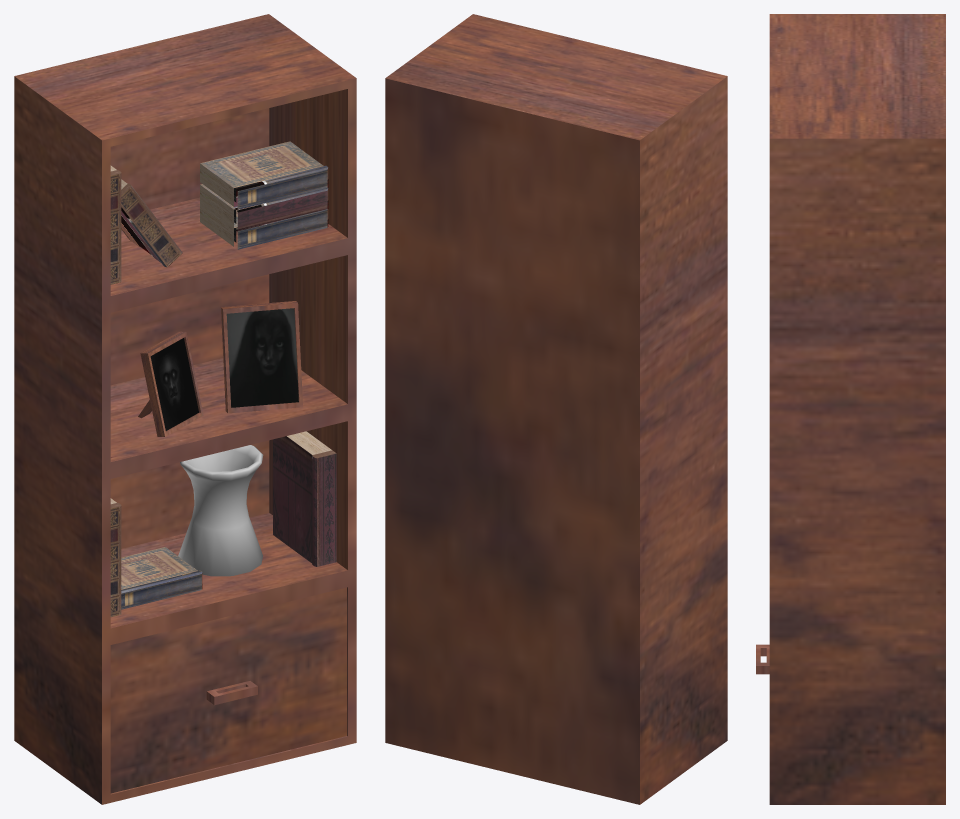
Rendered from TallFurniture.fbx.
3 renders of one model, left to right at view 1: azimuth 30°, elevation 25°; view 2: azimuth 150°, elevation 25°; view 3: azimuth 270°, elevation 25°, orthographic.
Visible parts, largest first — view 1: LittleTableDining; view 2: LittleTableDining; view 3: LittleTableDining.
Part boxes in pixels (x1,y1,x2,y2): LittleTableDining: (14,14,356,804); LittleTableDining: (385,14,727,804); LittleTableDining: (756,14,945,804).
Bounding box in the file's own units: 66.97 × 167 × 43.11.
